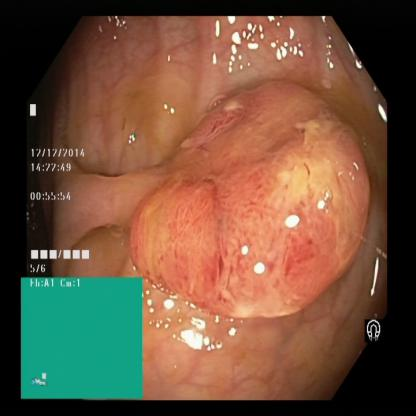Labels: (21, 275, 145, 397), (29, 93, 104, 278), (362, 304, 392, 355)
Polyps: (155, 92, 363, 294)
